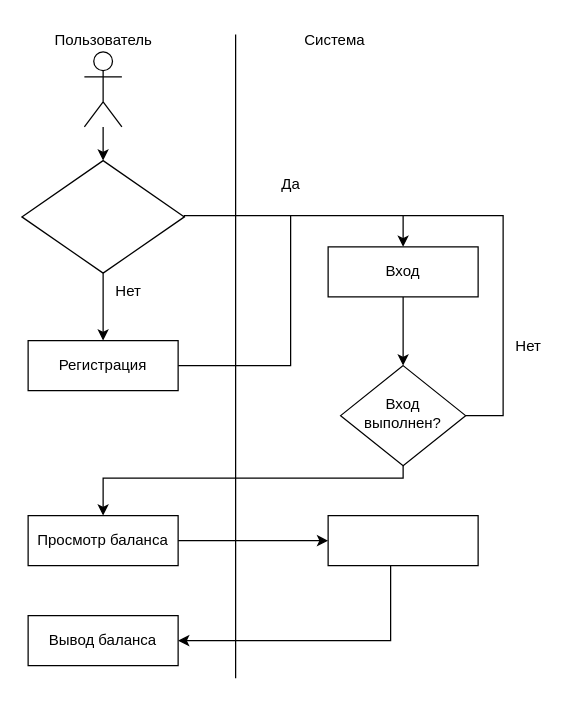
This 575x701 diagram has some shape labels left out. The centre of each missing label's shape, as x and y in pixels:
Запрос баланса кошелька в бд: (402,540)
Зарегистрирован?: (102,216)
